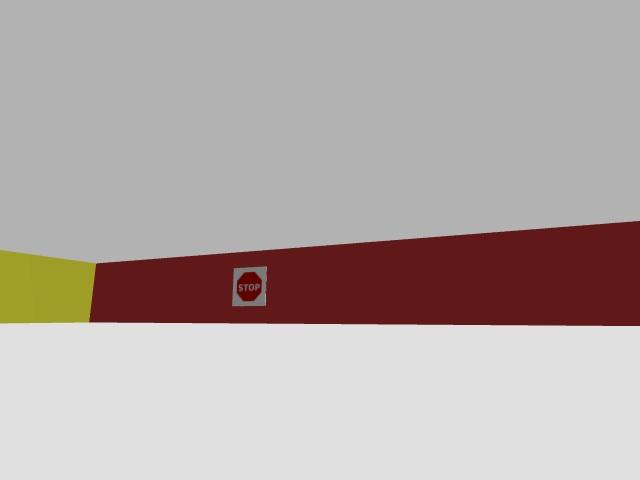stop: (232, 267, 266, 306)
